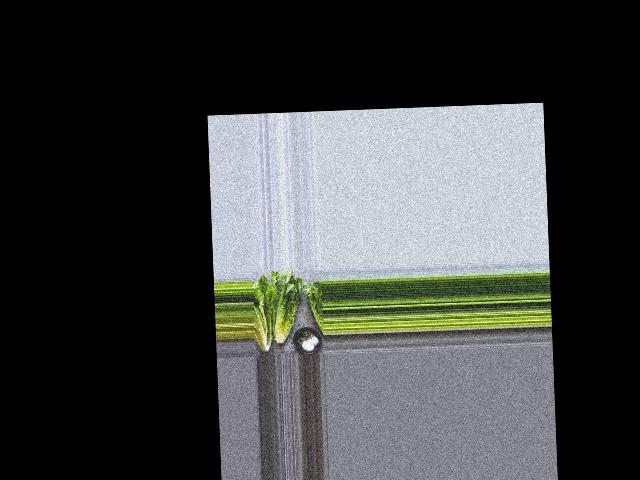lettuce: (252, 280, 275, 356)
